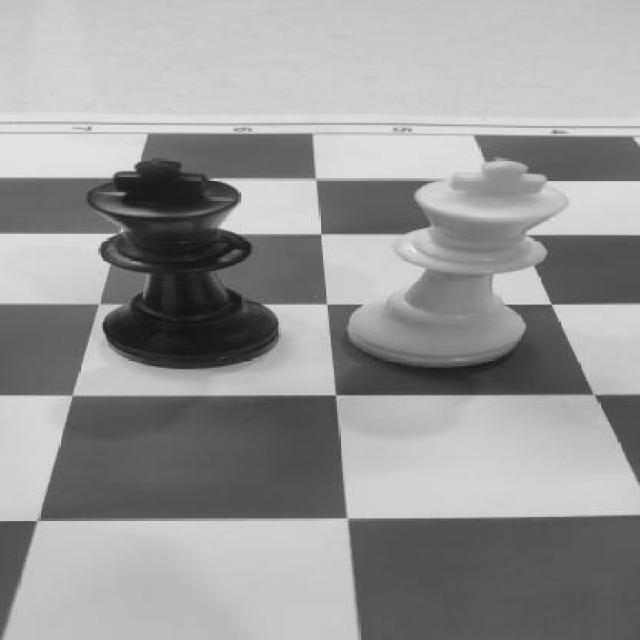black-king: (51, 158, 296, 368)
white-king: (339, 148, 570, 374)
